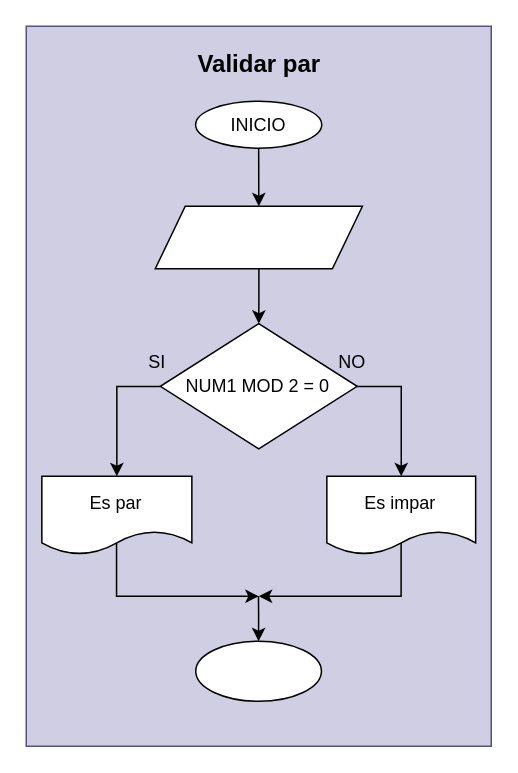
Some shapes in this 518 by 773 pixel diagram are drawn without their labels. The box of each missing label's shape, as (x1, y1, x2, y2) in pixels:
FIN: (194, 640, 321, 701)
NUM: (154, 205, 362, 269)
